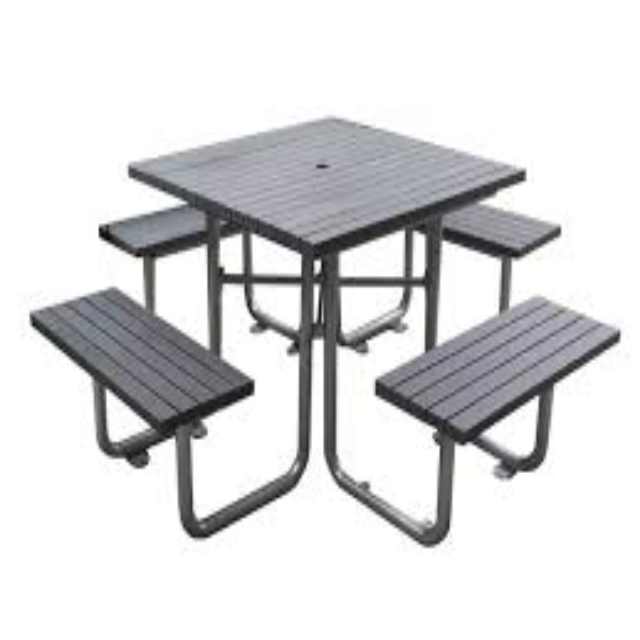obstacle: (20, 106, 623, 577)
